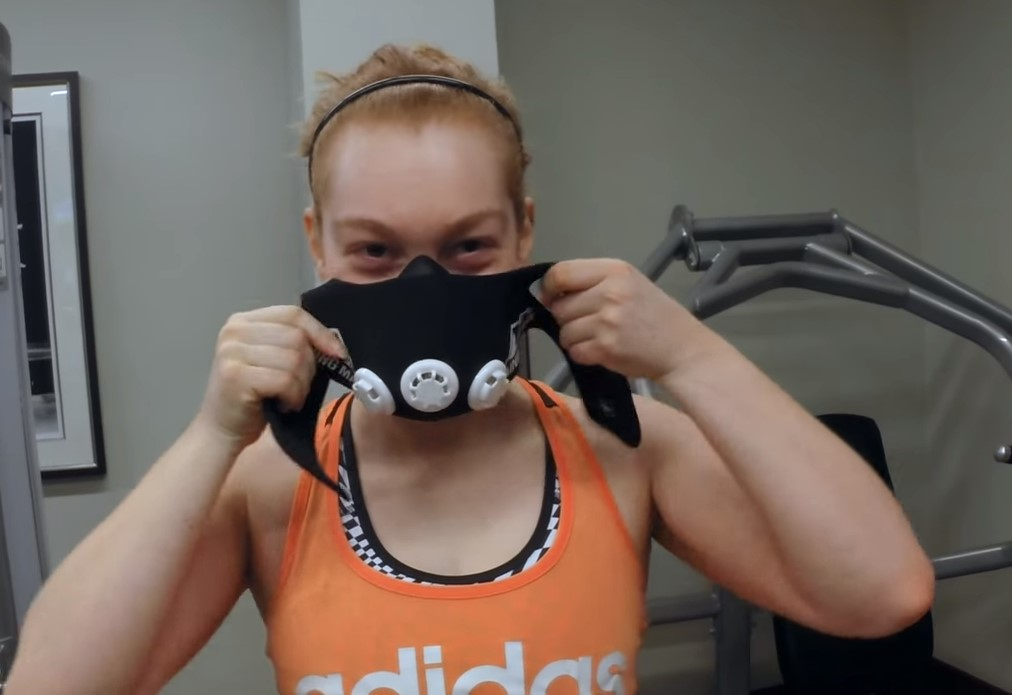face_with_mask: (299, 72, 548, 426)
